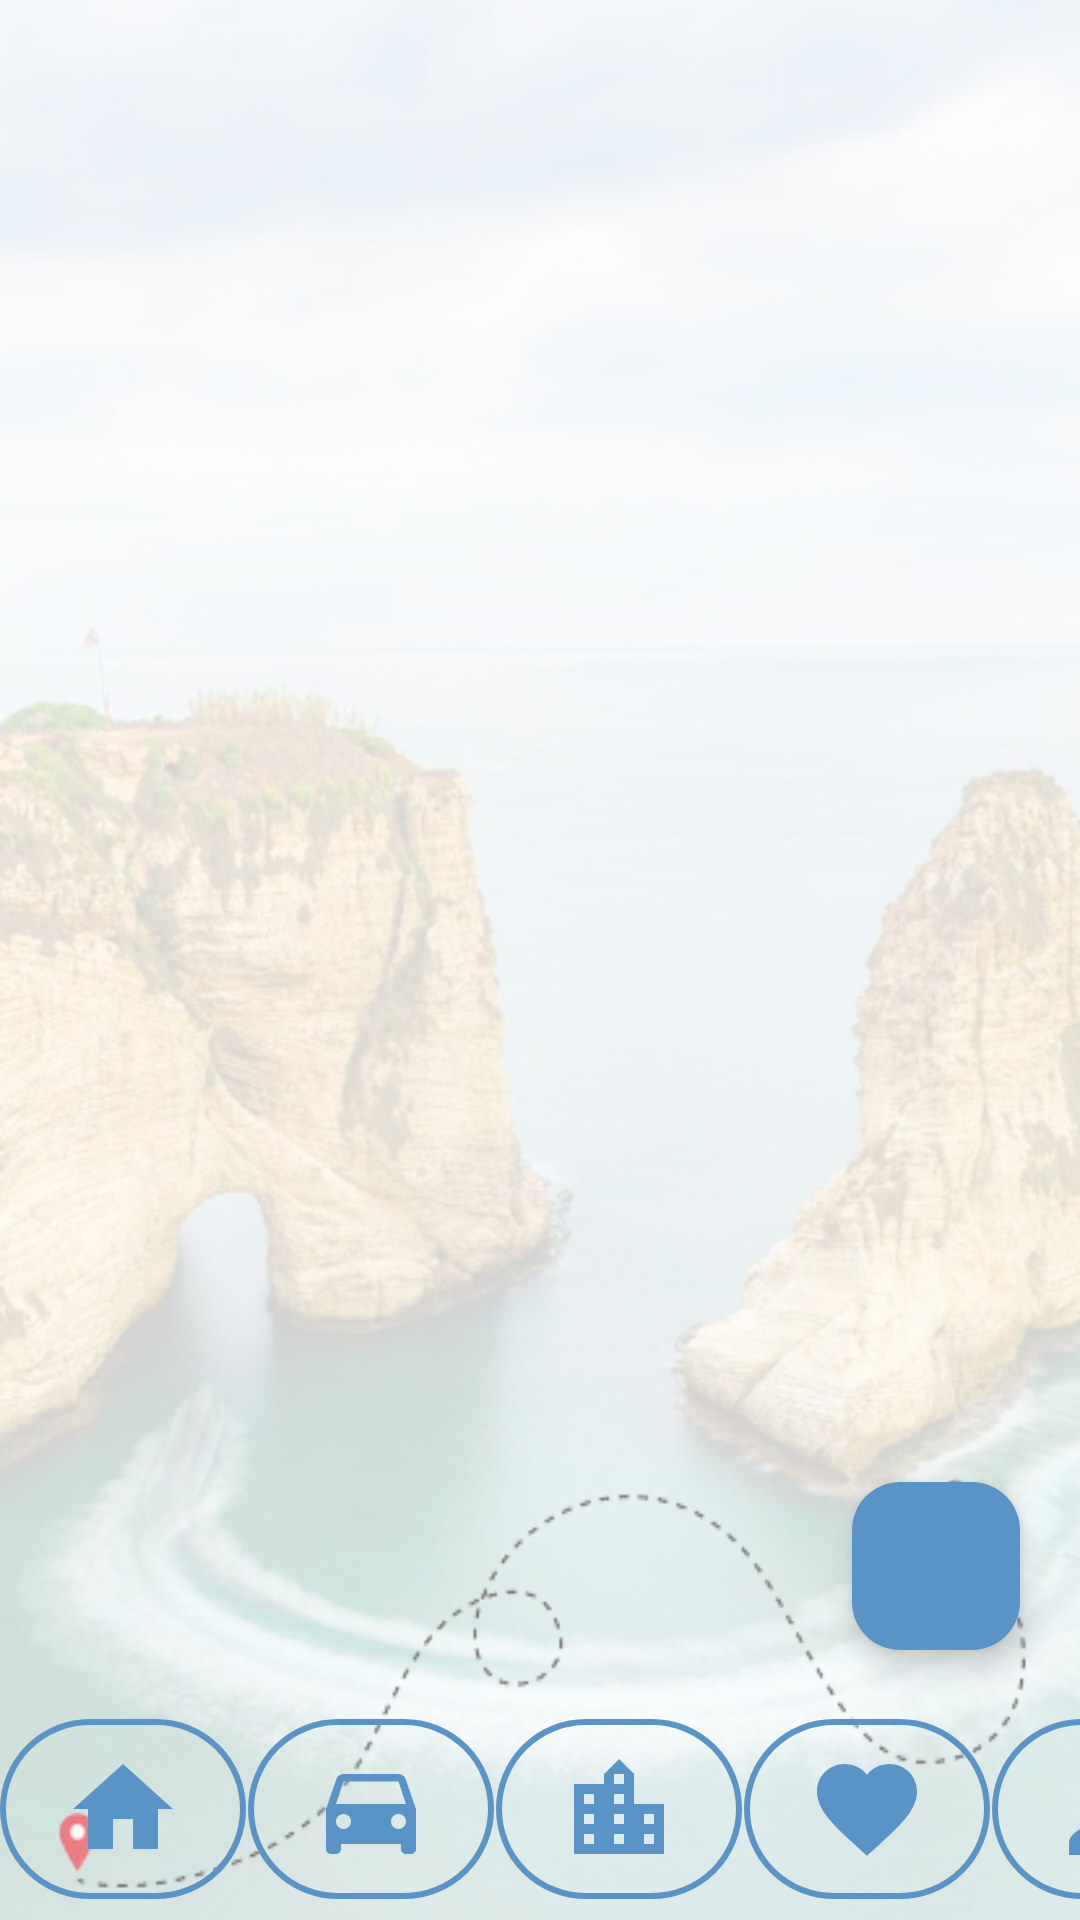

Locate icon controls on the screen. Image size 1080w x 1920h, boxes as bbox(x1, y1, x2, y2).
directions car: bbox(248, 1719, 494, 1899)
favorite: bbox(817, 1730, 982, 1856)
home: bbox(0, 1719, 246, 1899)
location city: bbox(496, 1719, 742, 1899)
